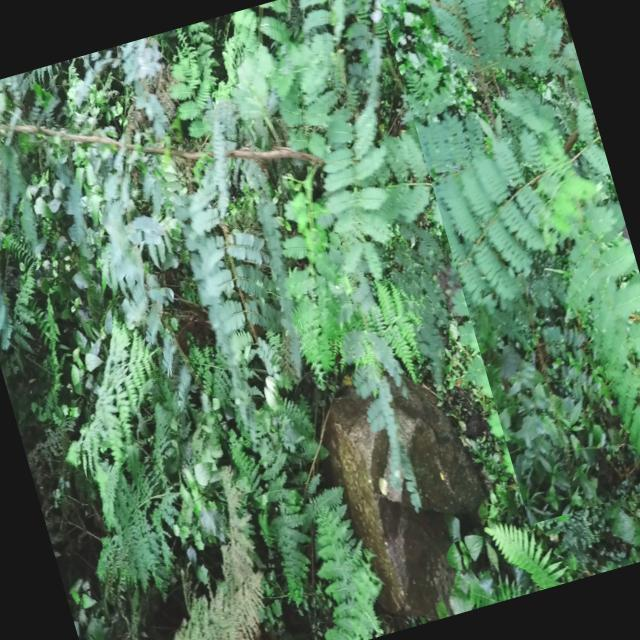Mysore-Thorn-Weed: (0, 0, 440, 366), (371, 0, 640, 524), (233, 0, 442, 493)
